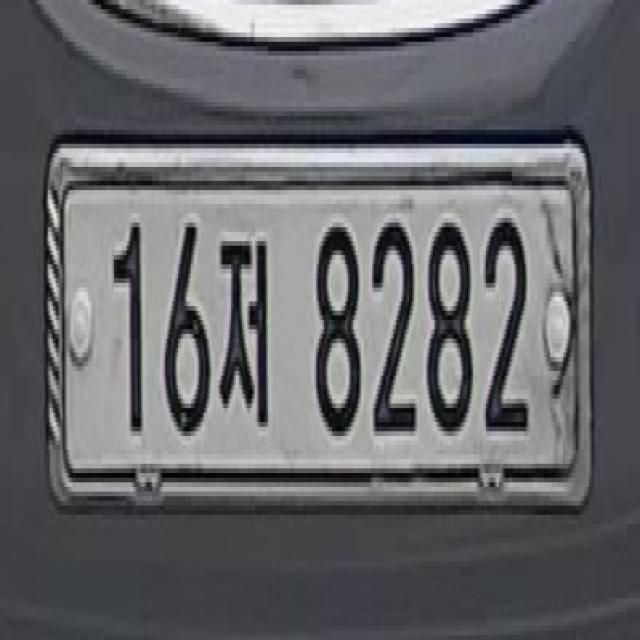1: (108, 214, 149, 446)
2: (478, 204, 531, 450), (366, 218, 418, 450)
6: (160, 208, 213, 441)
8: (422, 209, 476, 450), (311, 218, 366, 450)
jeo: (214, 214, 278, 441)
license_plate: (40, 116, 597, 543)
